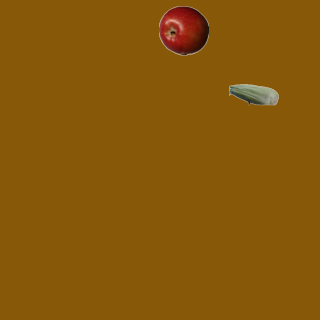Apple Braeburn: (158, 5, 208, 55)
Corn Husk: (228, 69, 278, 119)
